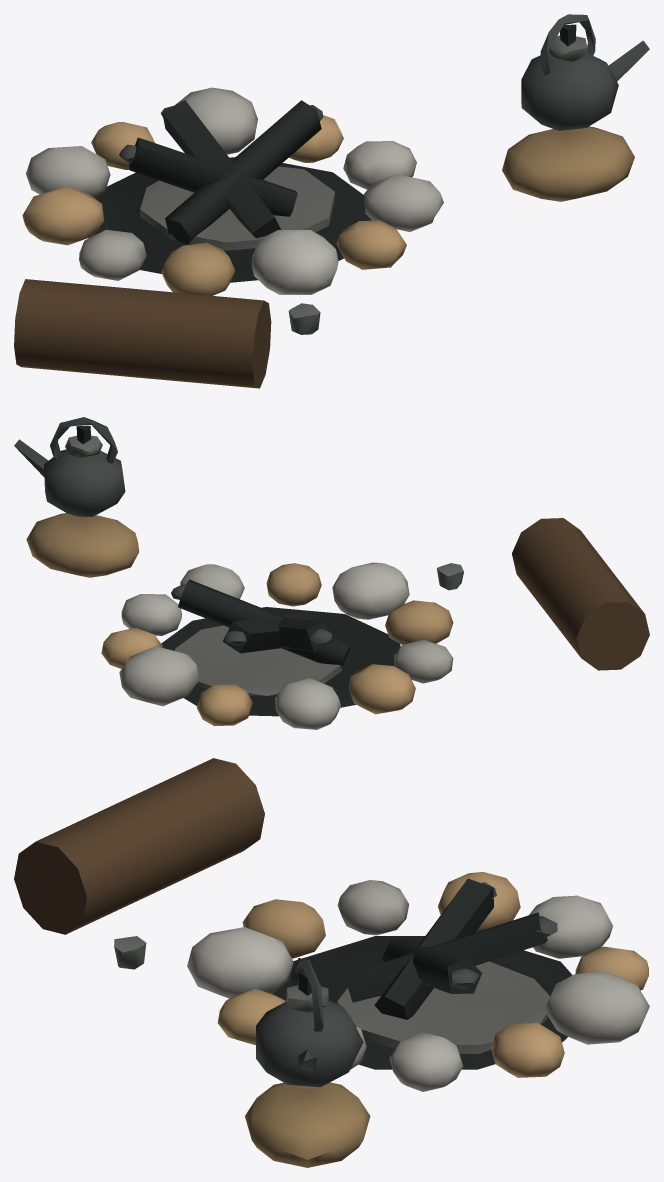
File: cold_campfire_a_lod1.glb
The picture shows the model from 3 angles, top to bottom: view 1: azimuth 30°, elevation 25°; view 2: azimuth 150°, elevation 25°; view 3: azimuth 270°, elevation 25°; orthographic projection. The views are drawn at different scales.
Parts seen in each view (by area): view 1: Surface.001; view 2: Surface.001; view 3: Surface.001.
Boxes of the visible parts, x1,y1,x2,y2 form: Surface.001: (14,14,649,388); Surface.001: (14,417,649,729); Surface.001: (14,758,649,1167).
Size of the model in its own units: 6.57 by 1.65 by 4.82.
